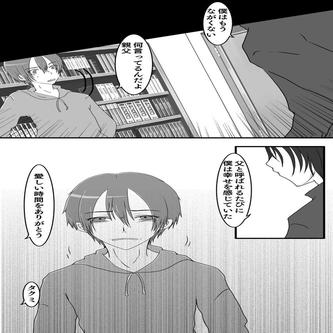bubble: (216, 153, 252, 227), (22, 165, 53, 247), (115, 33, 151, 93), (203, 1, 233, 44), (20, 282, 39, 306)
